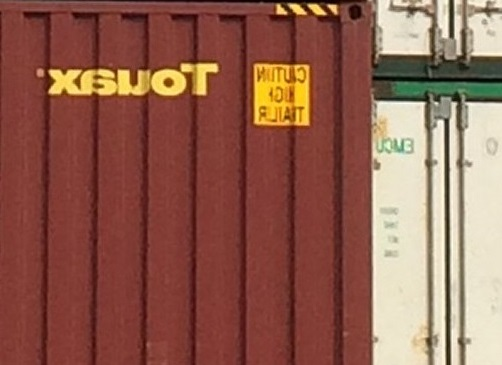container_no_door: (3, 3, 377, 361)
